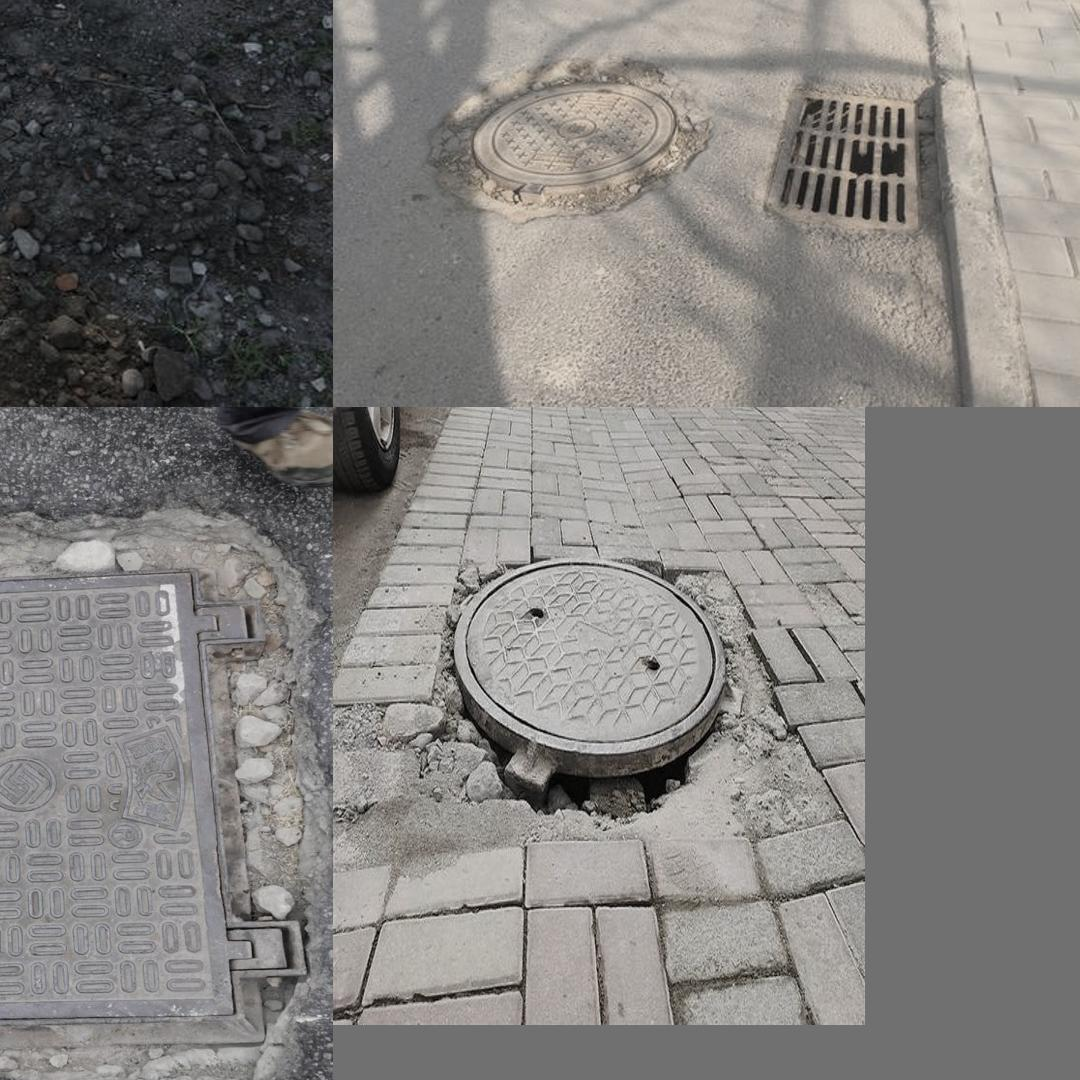circle: (0, 531, 313, 1080), (402, 540, 827, 878), (427, 42, 720, 229), (0, 0, 79, 222)
